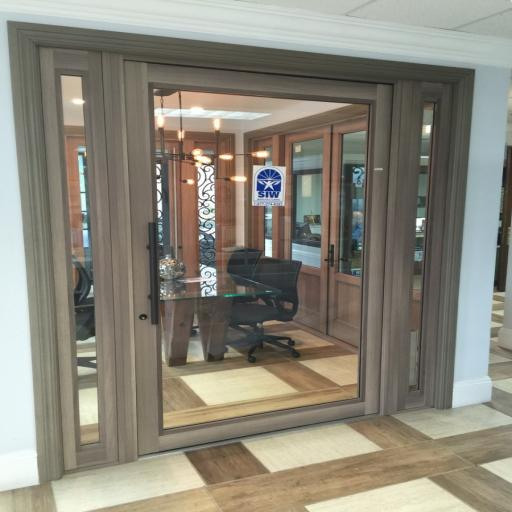Door: (7, 20, 475, 484), (128, 60, 387, 454), (285, 118, 368, 348), (286, 125, 330, 333), (328, 119, 368, 347)
